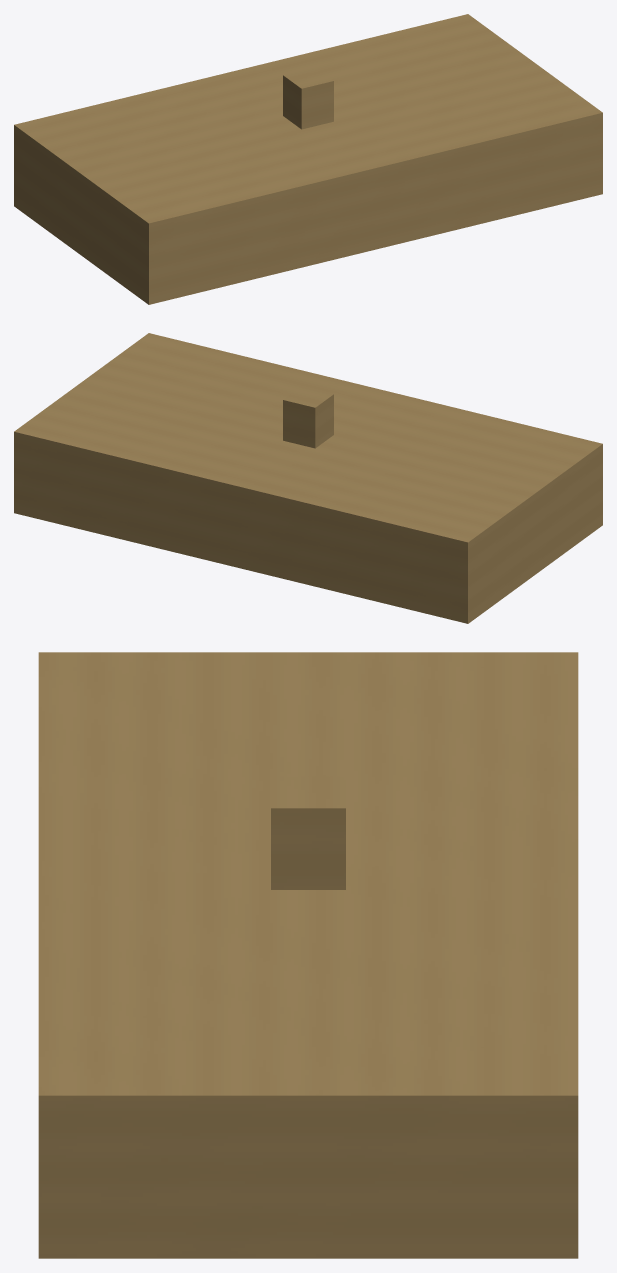
The model's file is EXACT_FOUR_PREDECESSOR_MESHES.glb.
The picture shows the model from 3 angles, top to bottom: view 1: azimuth 30°, elevation 25°; view 2: azimuth 150°, elevation 25°; view 3: azimuth 270°, elevation 25°; orthographic projection. The views are drawn at different scales.
Visible parts, largest first — view 1: CR_LampHousing_CourtView, CR_LampStem_CourtView; view 2: CR_LampHousing_CourtView, CR_LampStem_CourtView; view 3: CR_LampHousing_CourtView, CR_LampStem_CourtView.
Boxes of the visible parts, x1,y1,x2,y2 form: CR_LampHousing_CourtView: (14,14,602,304); CR_LampStem_CourtView: (283,67,333,129); CR_LampHousing_CourtView: (14,333,602,623); CR_LampStem_CourtView: (283,386,333,448); CR_LampHousing_CourtView: (38,652,578,1258); CR_LampStem_CourtView: (271,776,345,889).
Size of what is drawn, in the model's own units: 0.7 by 0.198 by 0.36.
Materials: 2 (1 with a texture image).
